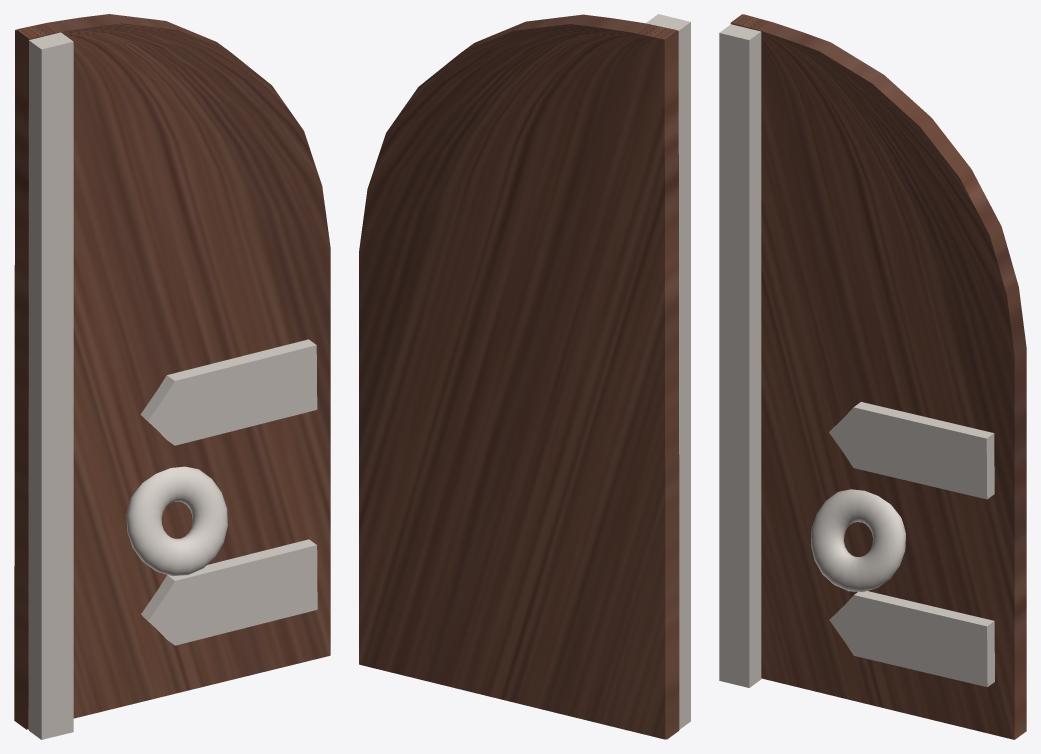
File: PuertaDerecha.obj
3 views of the same model, side by side, from view 1: azimuth 30°, elevation 25°; view 2: azimuth 150°, elevation 25°; view 3: azimuth 330°, elevation 25° (orthographic). The views are drawn at different scales.
Visible parts, largest first — view 1: polySurface90; view 2: polySurface90; view 3: polySurface90.
Boxes of the visible parts, box(x1,y1,x2,y2) form: polySurface90: box(14, 14, 330, 739); polySurface90: box(359, 14, 690, 739); polySurface90: box(719, 14, 1026, 739).
Size of the model in its own units: 1.81 by 3.93 by 0.3434.
Materials: 4 (4 with a texture image).
